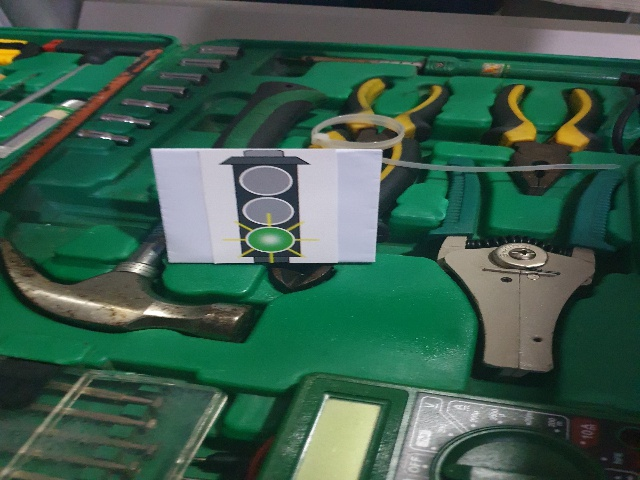Green Light: (217, 151, 312, 262)
